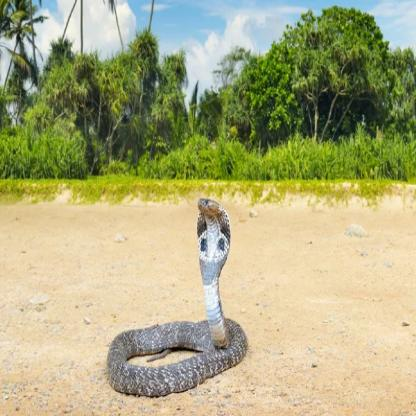Snake: (104, 195, 252, 400)
